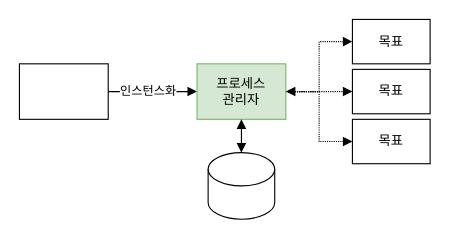
Some shapes in this 450 by 239 pixel diagram are drawn without their labels. Here are the shapes that lost their labels. From the top down, the centre of each, then its label:
point 63,91: 애플리케이션
point 241,185: 상태
